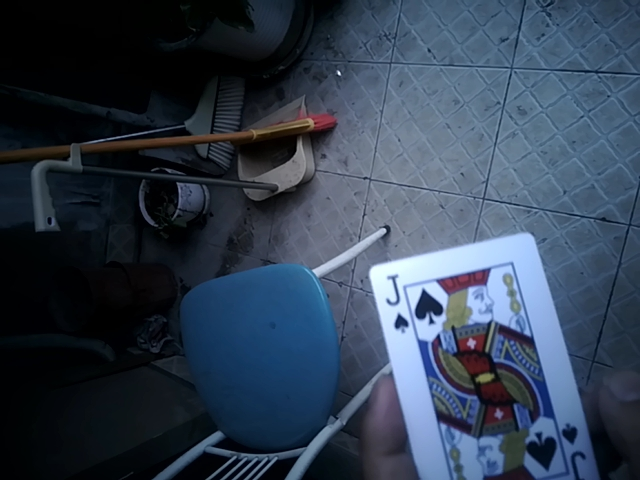ht j: (361, 227, 614, 478)
